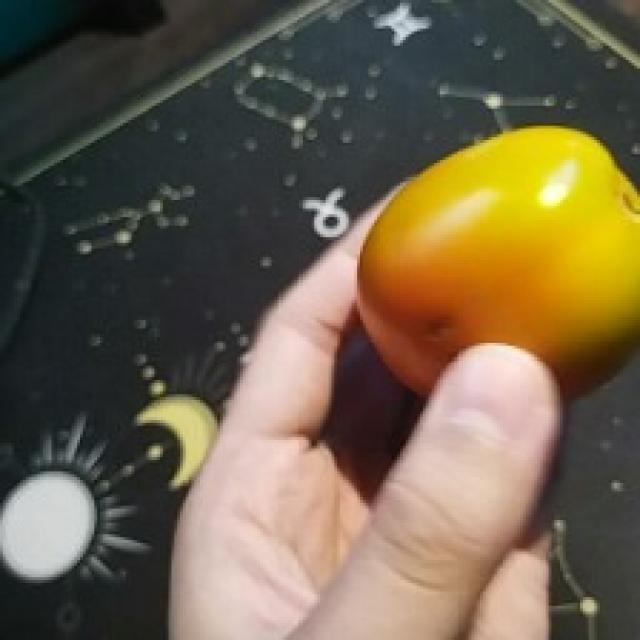Rotten Tomato: (344, 115, 640, 419)
